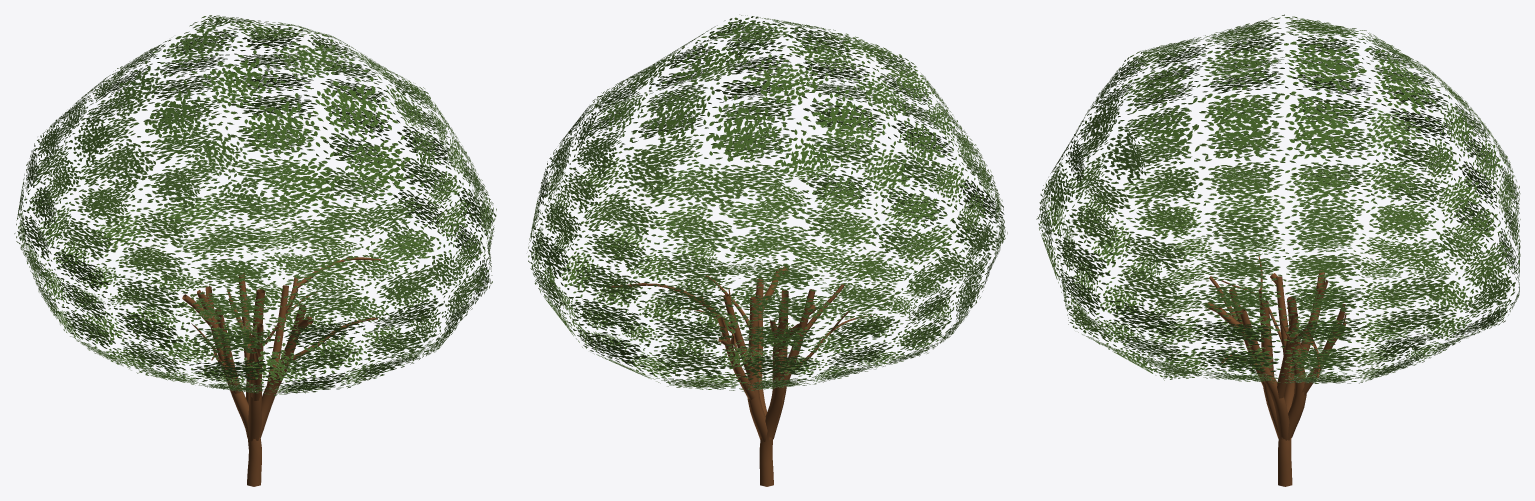
File: Elm tree.fbx
3 views of the same model, side by side, from view 1: azimuth 30°, elevation 25°; view 2: azimuth 150°, elevation 25°; view 3: azimuth 270°, elevation 25° (orthographic). The views are drawn at different scales.
Visible parts, largest first — view 1: tree.004; view 2: tree.004; view 3: tree.004.
Boxes of the visible parts, x1,y1,x2,y2 form: tree.004: [14, 15, 496, 486]; tree.004: [528, 14, 1007, 486]; tree.004: [1036, 14, 1520, 486].
Bounding box in the file's own units: 582 × 603 × 593.
